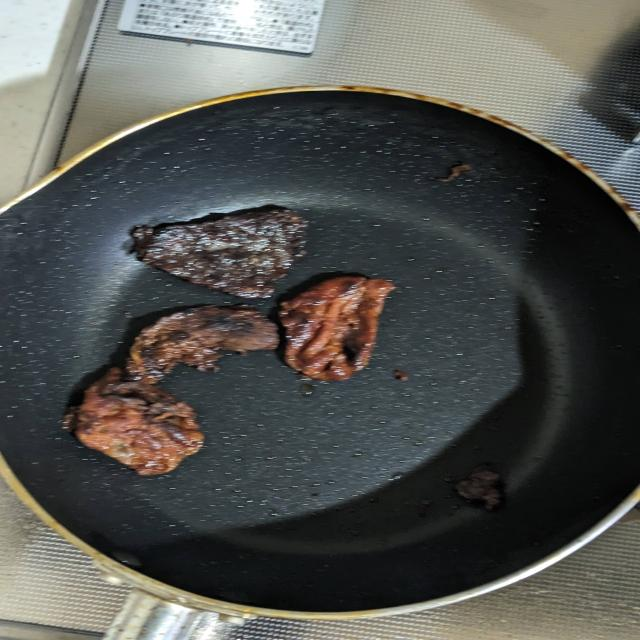overcooked beef,: (135, 199, 324, 311), (126, 298, 288, 388)
overcooked pork: (65, 357, 213, 486), (282, 270, 415, 390)
